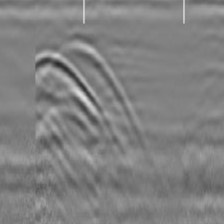Utility: (33, 32, 141, 159)
